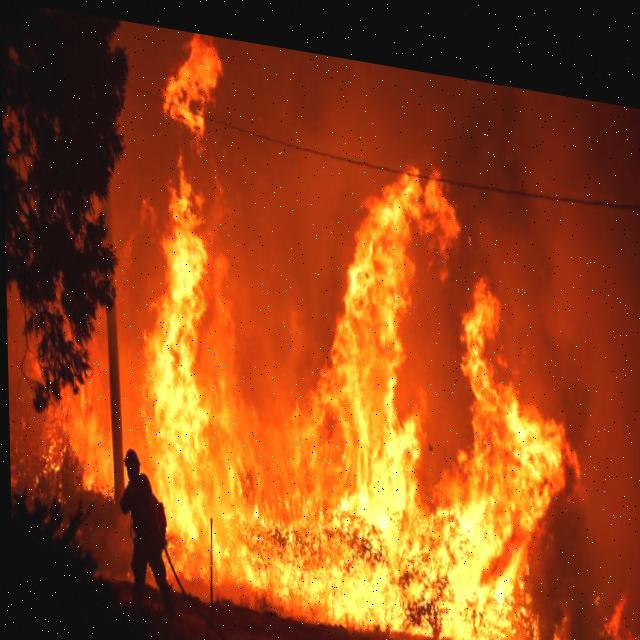Fire: (131, 34, 618, 639)
